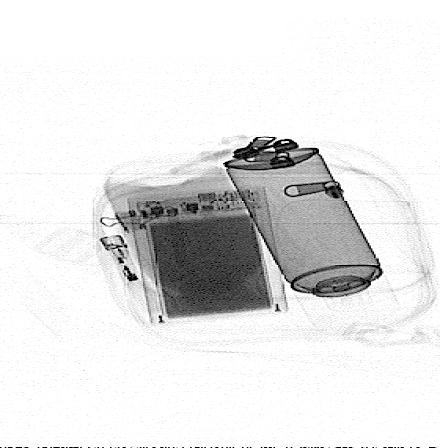Lighter: (99, 234, 163, 319)
Powerbank: (128, 187, 287, 325)
Sprayer: (221, 147, 400, 329)
